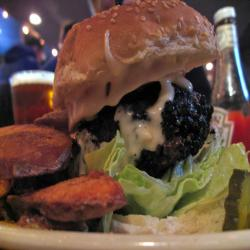burger: (60, 5, 247, 232)
salad: (101, 148, 240, 211)
